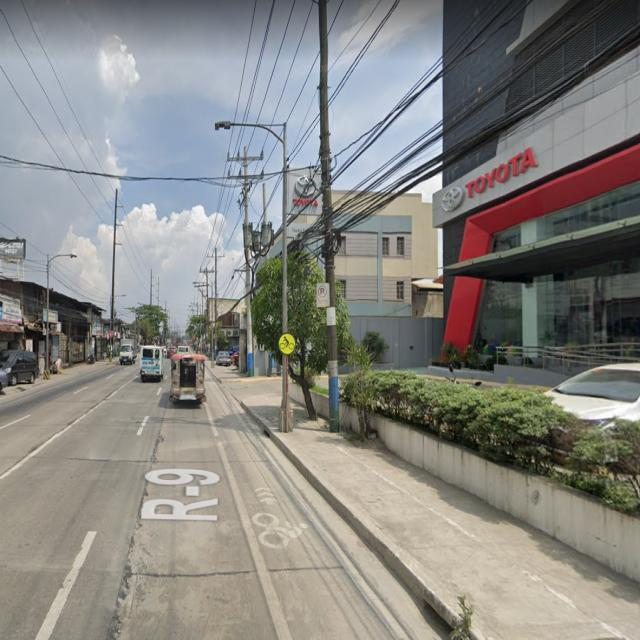bike lane: (274, 326, 301, 362)
